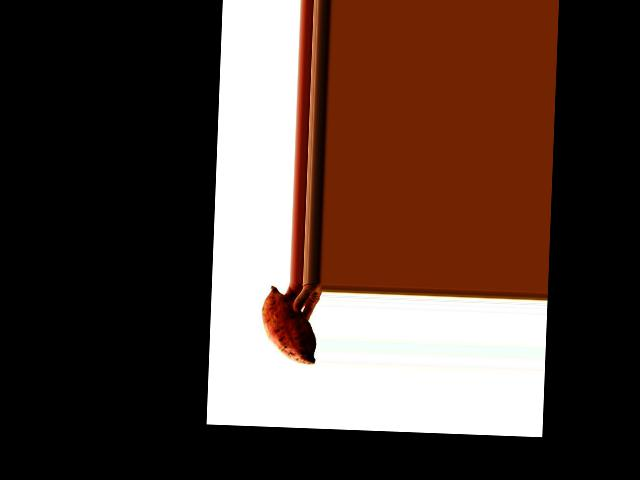sweet_potato: (255, 288, 320, 366)
